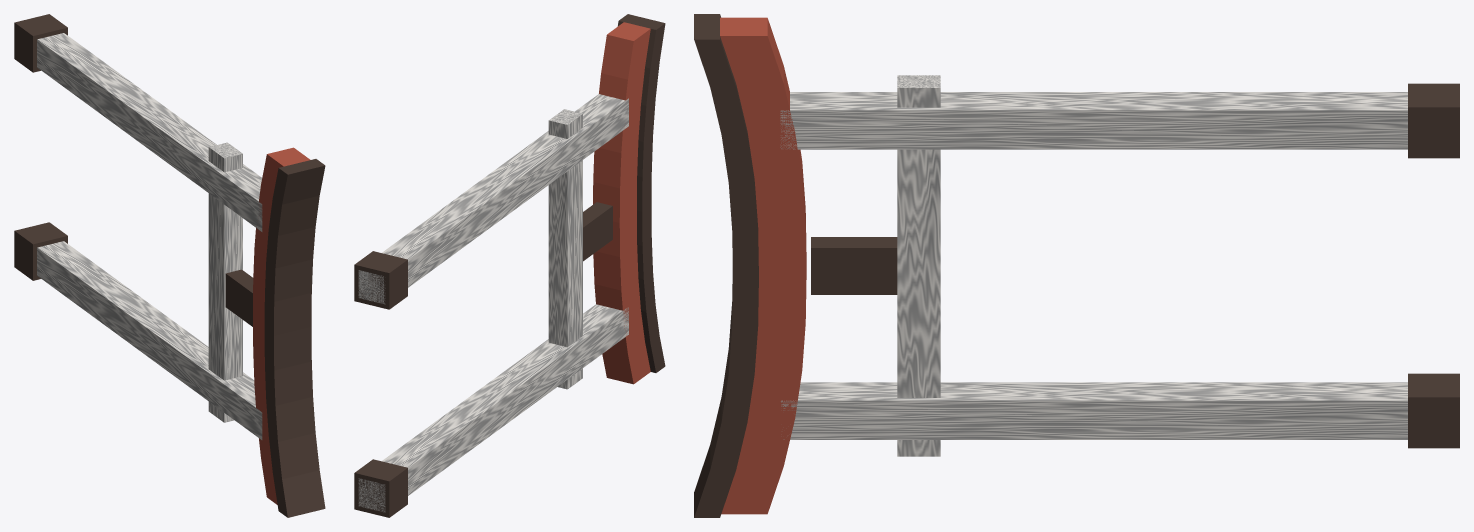
Rendered from torii.obj.
3 views of the same model, side by side, from view 1: azimuth 30°, elevation 25°; view 2: azimuth 150°, elevation 25°; view 3: azimuth 270°, elevation 25° (orthographic). The views are drawn at different scales.
Visible parts, largest first — view 1: post_right, post_left, nuki, cap0, cap1, cap9, cap2, cap3, cap4, post_left_foot, post_right_foot, cap5 (+12 smaller); view 2: post_right, post_left, nuki, post_left_foot, post_right_foot, kasagi9, kasagi6, kasagi3, kasagi0, plaque, kasagi5, kasagi2 (+14 smaller); view 3: post_right, post_left, nuki, plaque, post_left_foot, post_right_foot, kasagi9, kasagi8, kasagi6, kasagi7, kasagi5, kasagi2 (+14 smaller).
Boxes of the visible parts, left/top/right/bottom form: post_right: left=37, top=33, right=262, bottom=231; post_left: left=37, top=241, right=262, bottom=439; nuki: left=208, top=142, right=242, bottom=422; cap0: left=273, top=470, right=325, bottom=517; cap1: left=268, top=433, right=319, bottom=479; cap9: left=273, top=159, right=325, bottom=204; cap2: left=266, top=397, right=315, bottom=441; cap3: left=265, top=361, right=312, bottom=405; cap4: left=264, top=327, right=311, bottom=370; post_left_foot: left=14, top=222, right=67, bottom=280; post_right_foot: left=14, top=14, right=67, bottom=72; cap5: left=264, top=293, right=311, bottom=335; post_right: left=358, top=94, right=628, bottom=304; post_left: left=358, top=304, right=628, bottom=512; nuki: left=548, top=109, right=582, bottom=389; post_left_foot: left=354, top=459, right=407, bottom=517; post_right_foot: left=354, top=251, right=407, bottom=309; kasagi9: left=601, top=22, right=650, bottom=79; kasagi6: left=593, top=141, right=638, bottom=188; kasagi3: left=593, top=245, right=638, bottom=290; kasagi0: left=602, top=342, right=650, bottom=384; plaque: left=583, top=202, right=612, bottom=261; kasagi5: left=593, top=176, right=636, bottom=222; kasagi2: left=594, top=278, right=640, bottom=320; post_right: left=780, top=92, right=1407, bottom=149; post_left: left=781, top=382, right=1407, bottom=439; nuki: left=897, top=75, right=940, bottom=456; plaque: left=811, top=237, right=897, bottom=294; post_left_foot: left=1408, top=373, right=1459, bottom=448; post_right_foot: left=1408, top=83, right=1459, bottom=158; kasagi9: left=720, top=17, right=783, bottom=83; kasagi8: left=736, top=66, right=794, bottom=131; kasagi6: left=754, top=164, right=805, bottom=227; kasagi7: left=747, top=131, right=802, bottom=179; kasagi5: left=758, top=213, right=806, bottom=274; kasagi2: left=748, top=370, right=801, bottom=418.
Size of the model in its own units: 0.14 by 1.22 by 1.77.
